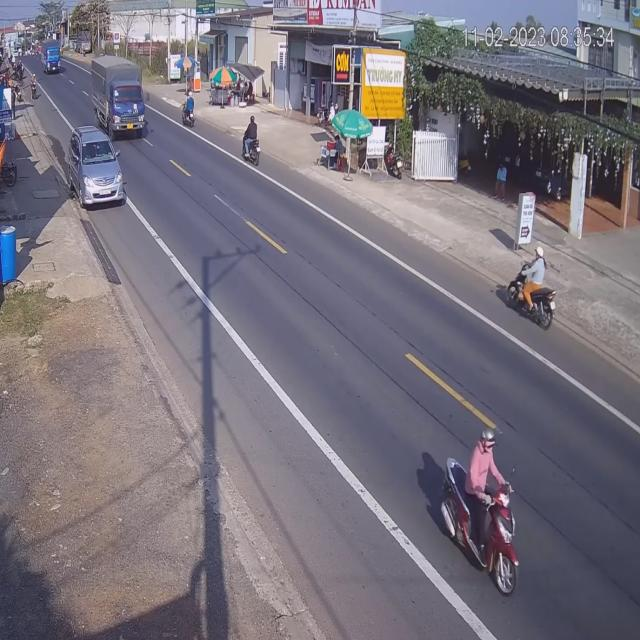car: (69, 125, 125, 208)
motorbike: (443, 427, 520, 592), (509, 246, 560, 326), (242, 115, 261, 169), (181, 91, 196, 130)
truck: (94, 54, 148, 140), (44, 44, 62, 74)
